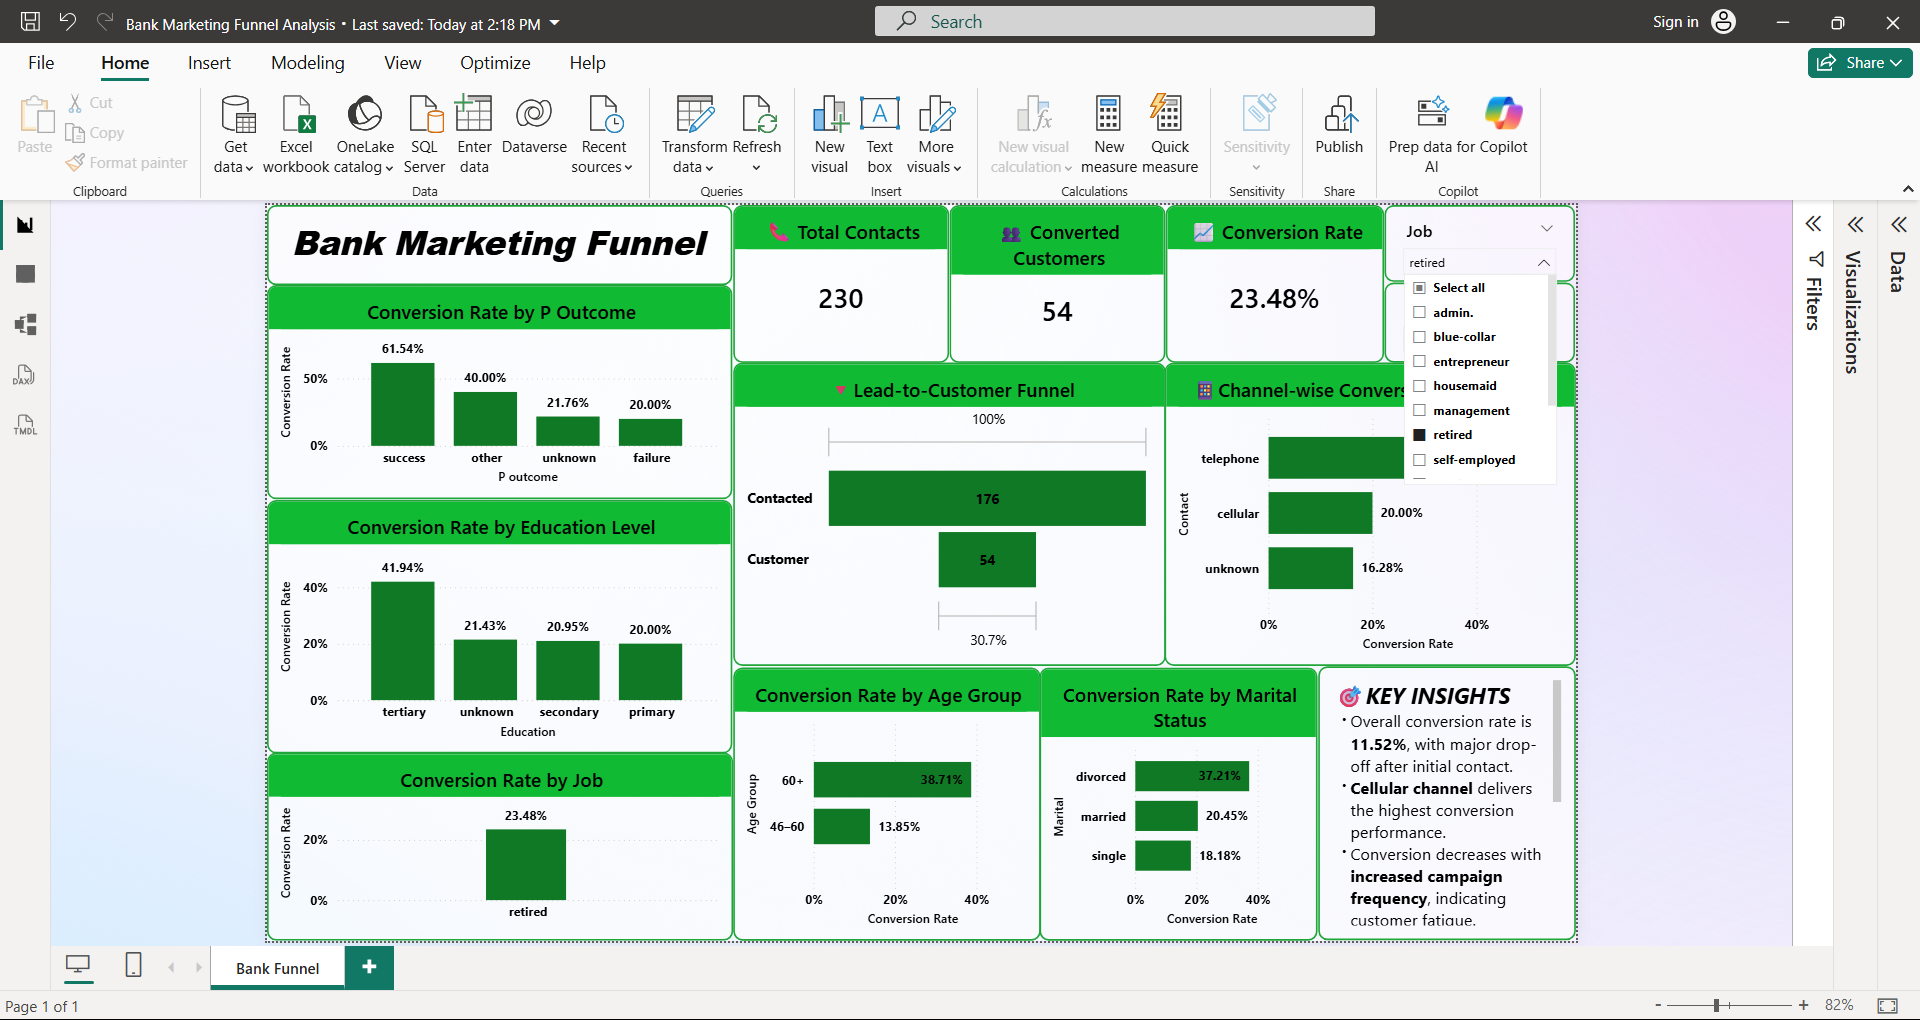

The page's visual inventory and layout, read from the dashboard file:
{"tool":"powerbi","page":{"name":"Page 1","canvas":[1280,720],"ordinal":0},"visuals":[{"type":"card","title":"Total Contacts","fields":{"Values":["Cleaned_Bank_data.Total Contacts"]},"box":[455.6,0,211.3,153.7],"z":0},{"type":"card","title":"Converted Customers","fields":{"Values":["Cleaned_Bank_data.Total Customers"]},"box":[666.9,0,219.6,153.7],"z":1000},{"type":"card","title":"Conversion Rate","fields":{"Values":["Cleaned_Bank_data.Conversion Rate"]},"box":[886.6,0,210.3,154.1],"z":2000},{"type":"funnel","title":"Lead-to-Customer Funnel","fields":{"Y":["Cleaned_Bank_data.Funnel Count"],"Category":["Cleaned_Bank_data.Funnel Stage"]},"box":[455.6,153.7,413,299.1],"z":3000},{"type":"clusteredBarChart","title":"Channel-wise Conversion Performance","fields":{"Category":["Cleaned_Bank_data.Contact"],"Y":["Cleaned_Bank_data.Conversion Rate"]},"box":[868.6,153.7,411.7,299.1],"z":4000},{"type":"slicer","fields":{"Values":["Cleaned_Bank_data.Month"]},"box":[1093.7,75.5,186.6,78.2],"z":5000},{"type":"slicer","fields":{"Values":["Cleaned_Bank_data.Job"]},"box":[1093.7,0,186.6,75.5],"z":6000},{"type":"clusteredBarChart","title":"Conversion Rate by Marital Status","fields":{"Category":["Cleaned_Bank_data.Marital"],"Y":["Cleaned_Bank_data.Conversion Rate"]},"box":[756.1,452.8,271.7,267.6],"z":7000},{"type":"clusteredColumnChart","title":"Conversion Rate by Education Level","fields":{"Category":["Cleaned_Bank_data.Education"],"Y":["Cleaned_Bank_data.Conversion Rate"]},"box":[0,288.2,455.6,248.4],"z":8000},{"type":"clusteredBarChart","fields":{"Category":["Cleaned_Bank_data.Age Group"],"Y":["Cleaned_Bank_data.Conversion Rate"]},"box":[455.6,452.8,300.5,267.6],"z":9000},{"type":"clusteredColumnChart","title":"Conversion Rate by P Outcome","fields":{"Y":["Cleaned_Bank_data.Conversion Rate"],"Category":["Cleaned_Bank_data.P out Come"]},"box":[0,78.2,455.6,209.9],"z":10000},{"type":"textbox","title":"Bank Marketing Funnel","box":[0,0,455.6,78.2],"z":11000},{"type":"clusteredColumnChart","fields":{"Category":["Cleaned_Bank_data.Job"],"Y":["Cleaned_Bank_data.Conversion Rate"]},"box":[0,536,456,184],"z":12000},{"type":"textbox","box":[1028.4,451.2,251.9,267.8],"z":13000}]}

Visuals, with their boxes on the page's 1280x720 design canvas (x1, y1, x2, y2). These are canvas units, not pixel positions in the 1920x1020 screenshot, which may show the page scaled, cropped or inside an application window:
"Total Contacts" card: (456, 0, 667, 154)
"Converted Customers" card: (667, 0, 886, 154)
"Conversion Rate" card: (887, 0, 1097, 154)
"Lead-to-Customer Funnel" funnel: (456, 154, 869, 453)
"Channel-wise Conversion Performance" clusteredBarChart: (869, 154, 1280, 453)
slicer - Cleaned_Bank_data.Month: (1094, 76, 1280, 154)
slicer - Cleaned_Bank_data.Job: (1094, 0, 1280, 76)
"Conversion Rate by Marital Status" clusteredBarChart: (756, 453, 1028, 720)
"Conversion Rate by Education Level" clusteredColumnChart: (0, 288, 456, 537)
clusteredBarChart - Cleaned_Bank_data.Age Group x Cleaned_Bank_data.Conversion Rate: (456, 453, 756, 720)
"Conversion Rate by P Outcome" clusteredColumnChart: (0, 78, 456, 288)
"Bank Marketing Funnel" textbox: (0, 0, 456, 78)
clusteredColumnChart - Cleaned_Bank_data.Job x Cleaned_Bank_data.Conversion Rate: (0, 536, 456, 720)
textbox: (1028, 451, 1280, 719)
